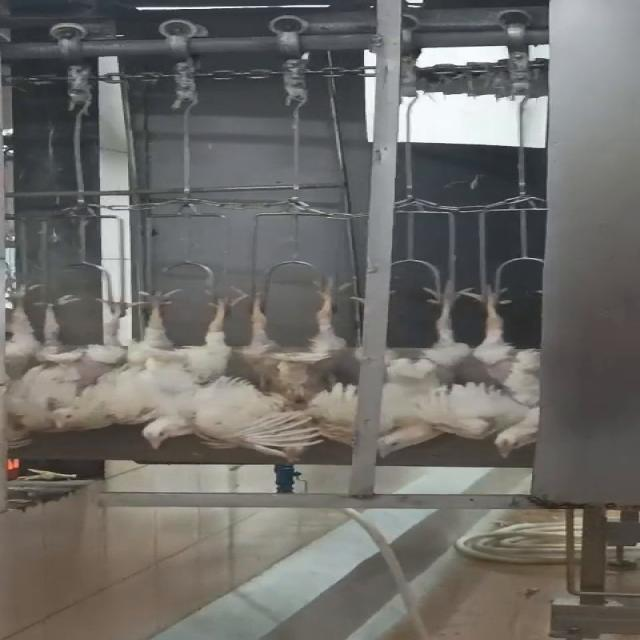chicken: (114, 276, 261, 451), (2, 280, 144, 452), (245, 268, 358, 464), (375, 274, 475, 460), (457, 282, 549, 458)
